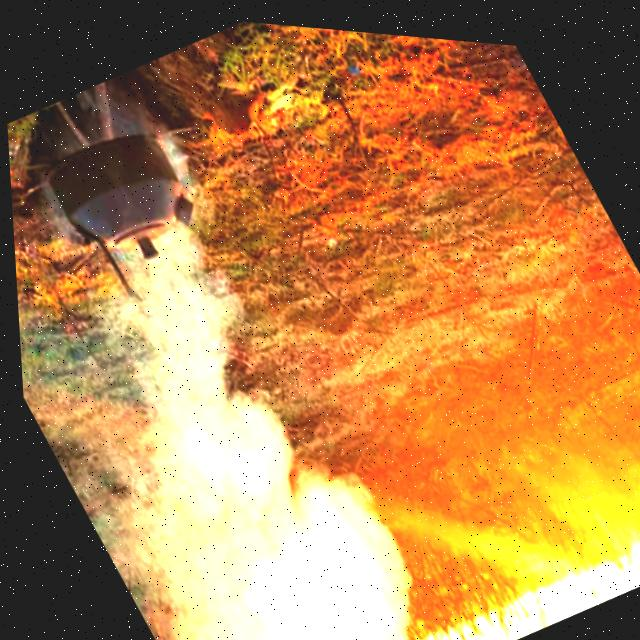Smoke: (9, 202, 449, 640)
